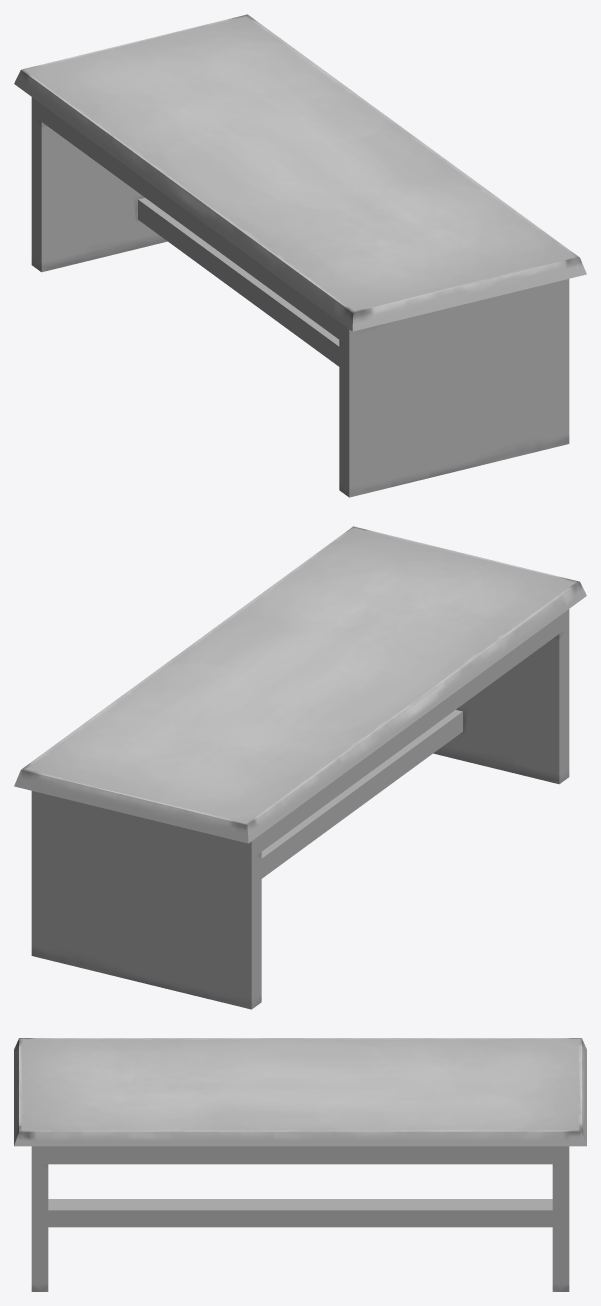
The model's file is table01.fbx.
3 renders of one model, top to bottom at view 1: azimuth 30°, elevation 25°; view 2: azimuth 150°, elevation 25°; view 3: azimuth 270°, elevation 25°, orthographic. The views are drawn at different scales.
Parts seen in each view (by area): view 1: Cube; view 2: Cube; view 3: Cube.
Part boxes in pixels (x1,y1,x2,y2): Cube: (14, 14, 586, 497); Cube: (14, 526, 586, 1009); Cube: (14, 1038, 586, 1291).
Bounding box in the file's own units: 0.8526 × 0.663 × 2.13.
1 material, 1 textured.
